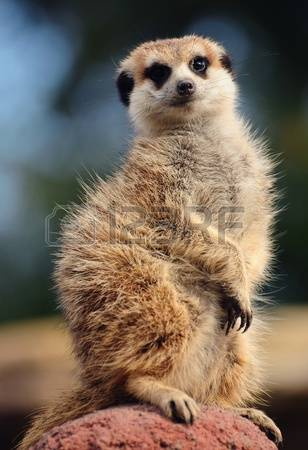meerkat: (43, 33, 289, 436)
